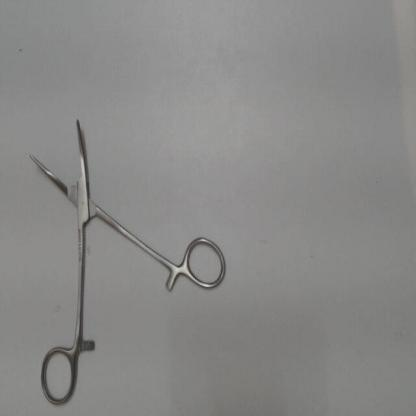Crile Artery Forceps: (20, 107, 232, 411)
